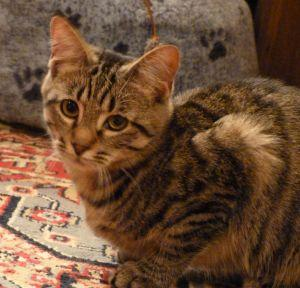bengal: (26, 10, 190, 182)
